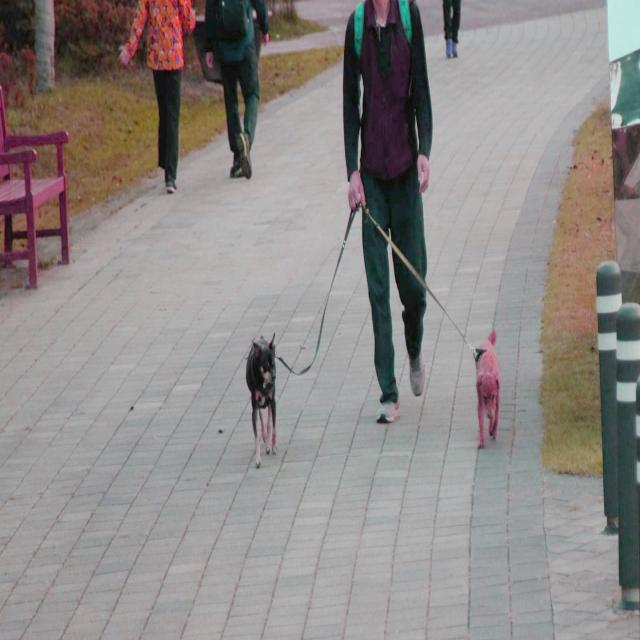Leashed_Dog: (246, 174, 378, 468), (396, 214, 500, 451)
